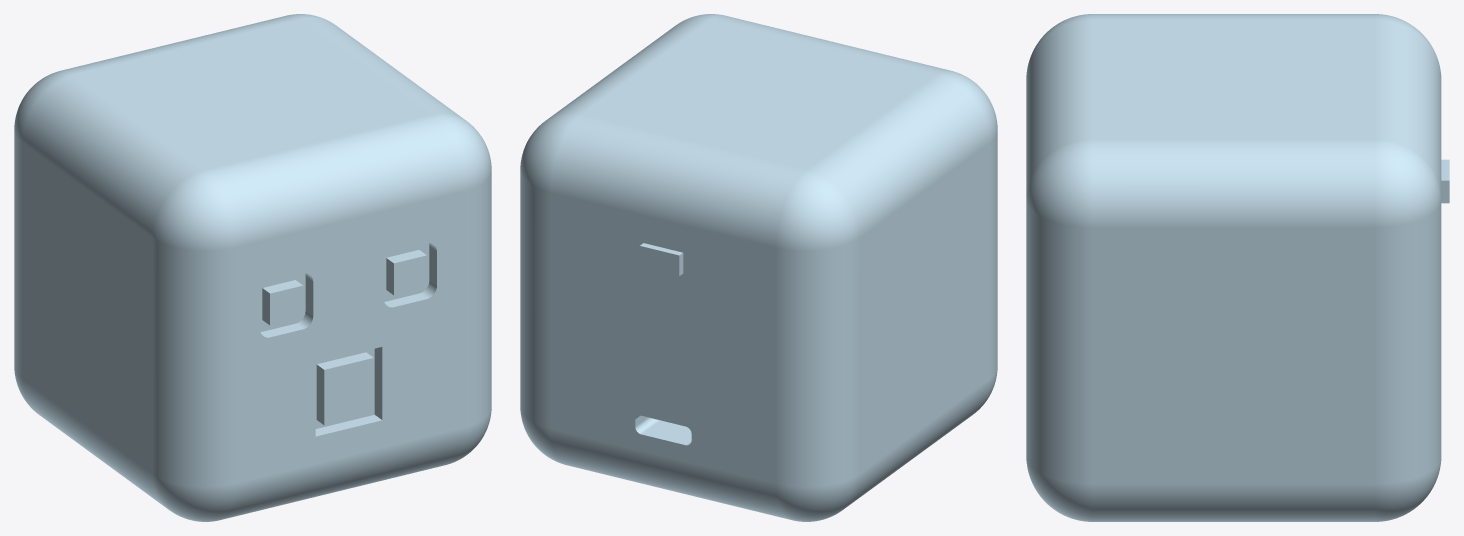
File: Desk_Bud-V1.gltf
The picture shows the model from 3 angles, left to right: view 1: azimuth 30°, elevation 25°; view 2: azimuth 150°, elevation 25°; view 3: azimuth 270°, elevation 25°; orthographic projection. The views are drawn at different scales.
Parts seen in each view (by area): view 1: Desk_Bud-V1; view 2: Desk_Bud-V1; view 3: Desk_Bud-V1.
Boxes of the visible parts, bbox=[...] form: Desk_Bud-V1: bbox=[14, 14, 491, 521]; Desk_Bud-V1: bbox=[520, 14, 997, 521]; Desk_Bud-V1: bbox=[1026, 14, 1449, 521].
Bounding box in the file's own units: 0.05 × 0.05 × 0.051.
